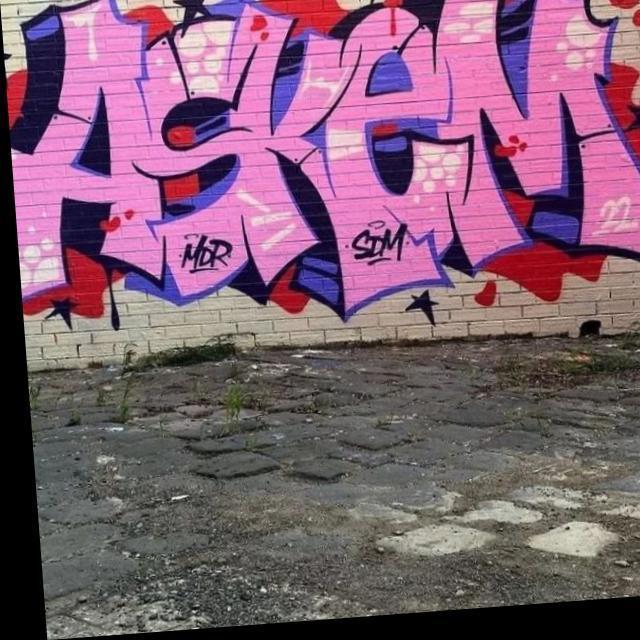nonspitting: (3, 0, 640, 332)
